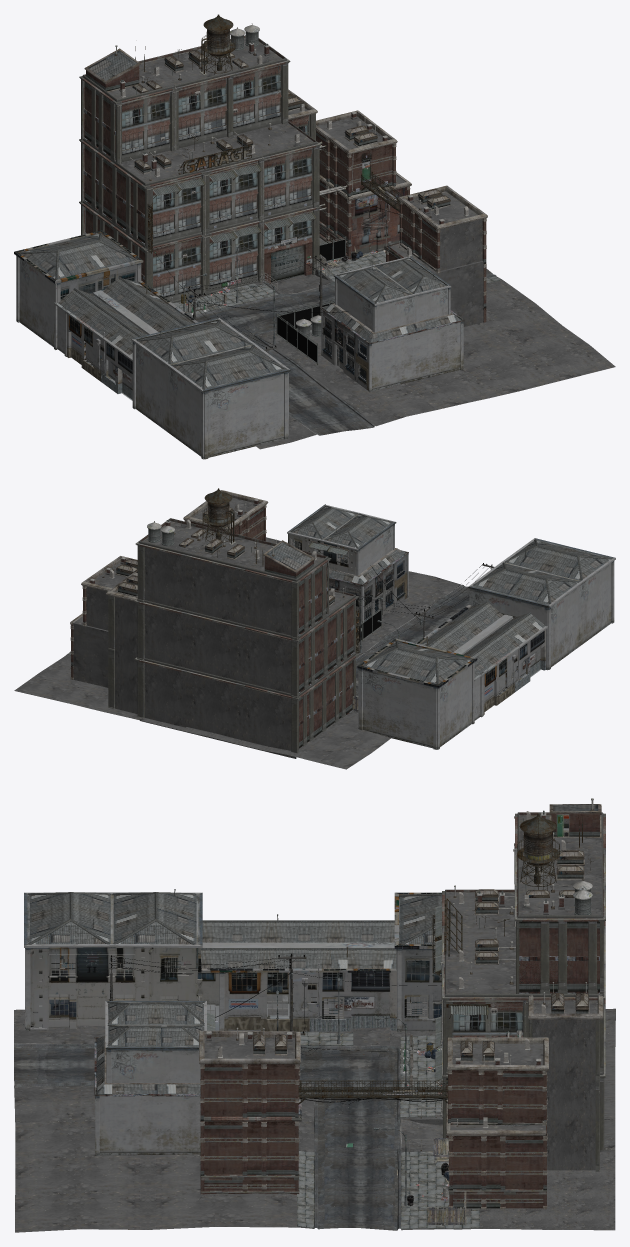
The model's file is abandoned-factory.glb.
3 views of the same model, one above another, from view 1: azimuth 30°, elevation 25°; view 2: azimuth 150°, elevation 25°; view 3: azimuth 270°, elevation 25° (orthographic). The views are drawn at different scales.
Visible parts, largest first — view 1: Object_36, Object_41, Object_30, Object_29, Object_50, Object_31, Object_40, Object_42, Object_47, Object_44, Object_34, Object_22 (+6 smaller); view 2: Object_41, Object_30, Object_29, Object_36, Object_50, Object_47, Object_42, Object_28, Object_40, Object_31, Object_34, Object_27 (+2 smaller); view 3: Object_41, Object_50, Object_29, Object_40, Object_36, Object_30, Object_27, Object_47, Object_42, Object_22, Object_31, Object_34 (+10 smaller).
Boxes of the visible parts, x1,y1,x2,y2 form: Object_36: [79, 35, 483, 322]; Object_41: [85, 38, 615, 449]; Object_30: [16, 256, 463, 459]; Object_29: [20, 50, 461, 389]; Object_50: [84, 44, 486, 322]; Object_31: [114, 25, 469, 365]; Object_40: [191, 268, 496, 435]; Object_42: [84, 48, 487, 334]; Object_47: [14, 146, 251, 399]; Object_44: [83, 108, 464, 344]; Object_34: [129, 14, 403, 319]; Object_22: [173, 250, 501, 346]; Object_41: [14, 497, 461, 769]; Object_30: [287, 504, 615, 749]; Object_29: [266, 504, 612, 684]; Object_36: [73, 516, 358, 753]; Object_50: [70, 500, 353, 748]; Object_47: [356, 605, 545, 714]; Object_42: [70, 490, 397, 679]; Object_28: [329, 554, 407, 625]; Object_40: [356, 584, 469, 695]; Object_31: [90, 498, 381, 694]; Object_34: [154, 488, 359, 653]; Object_27: [288, 533, 356, 574]; Object_41: [14, 816, 615, 1232]; Object_50: [200, 813, 599, 1208]; Object_29: [27, 804, 598, 1094]; Object_40: [14, 1043, 401, 1230]; Object_36: [201, 812, 605, 1202]; Object_30: [24, 892, 439, 1155]; Object_27: [30, 947, 428, 1030]; Object_47: [201, 892, 441, 1031]; Object_42: [104, 804, 603, 1229]; Object_22: [297, 1032, 479, 1229]; Object_31: [206, 798, 594, 1197]; Object_34: [298, 813, 593, 1205].
Size of the model in its own units: 1.36 by 0.7827 by 1.38.
Materials: 35 (34 with a texture image).
